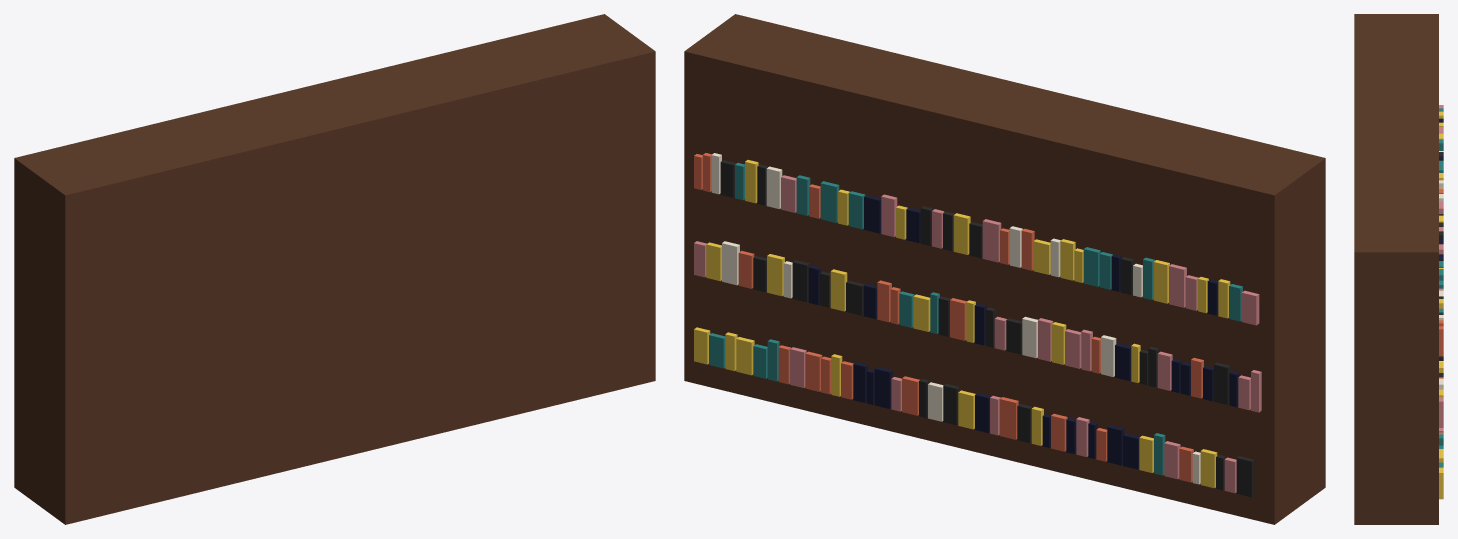
File: horror_aisle.glb
3 views of the same model, side by side, from view 1: azimuth 30°, elevation 25°; view 2: azimuth 150°, elevation 25°; view 3: azimuth 270°, elevation 25° (orthographic). The views are drawn at different scales.
Visible parts, largest first — view 1: Box1; view 2: Box1, Box25, Box113, Box44; view 3: Box1, Box2, Box45, Box90.
Part boxes in pixels (<box>): Box1: <box>14,14,655,524</box>; Box1: <box>684,14,1325,524</box>; Box25: <box>999,397,1018,439</box>; Box113: <box>982,219,1001,262</box>; Box44: <box>1236,456,1254,497</box>; Box1: <box>1354,14,1438,524</box>; Box2: <box>1439,467,1443,499</box>; Box45: <box>1439,397,1443,427</box>; Box90: <box>1439,326,1443,356</box>.
Bounding box in the file's own units: 3 × 1.6 × 0.475.
